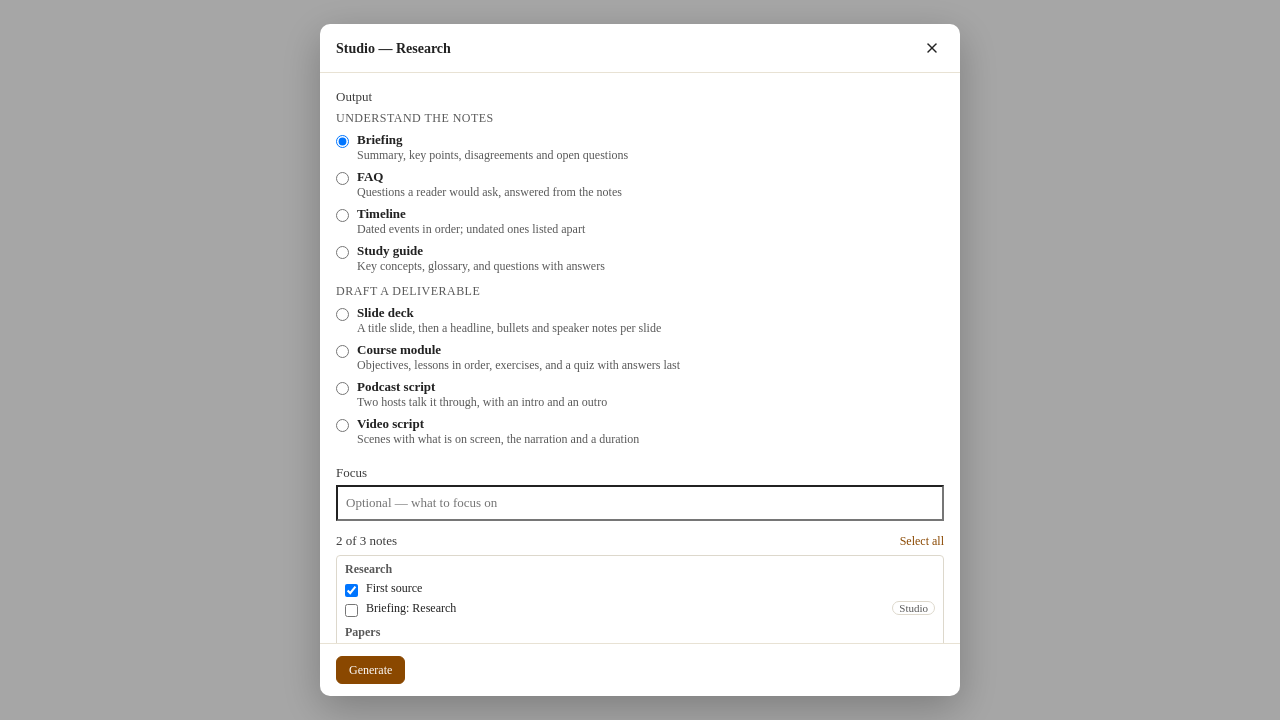
Test case: StudioModal › shows any other error inline
Click the button "Generate": (371, 670) [336,656,405,684]
(page scrolled)
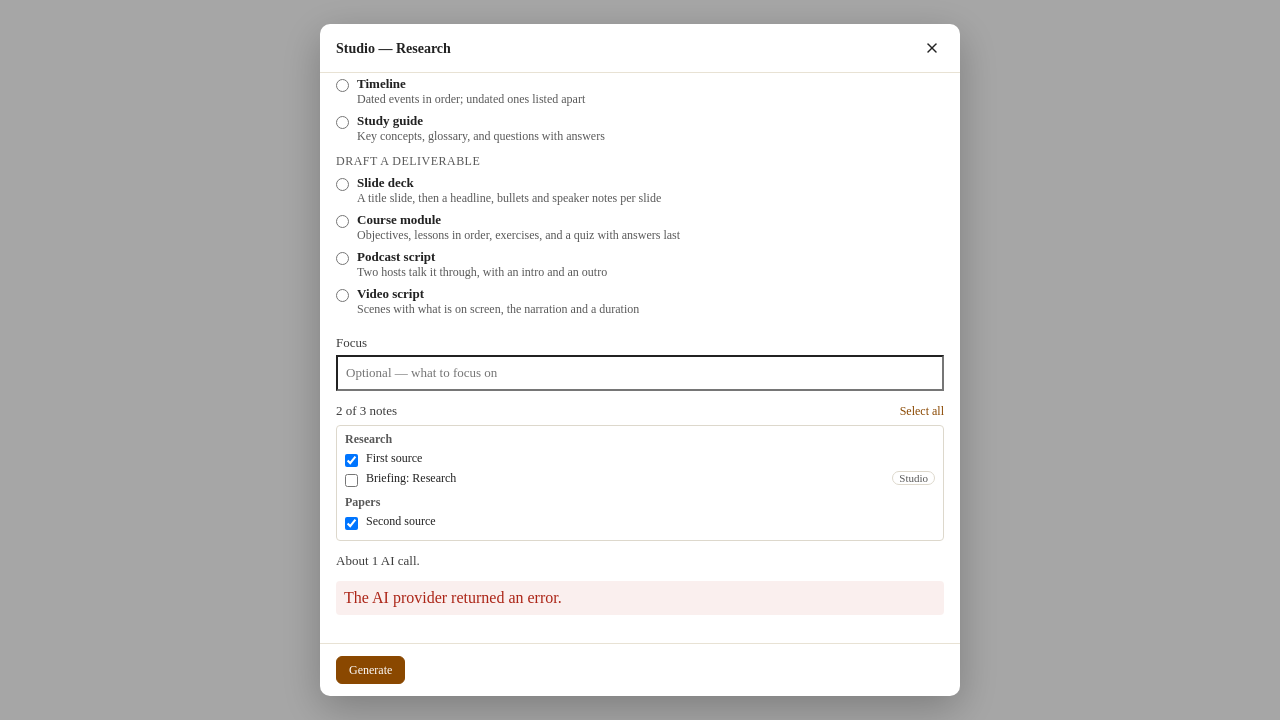
Check: the text with class "error" reads "The AI provider returned an error.", box [344,589,562,606]
